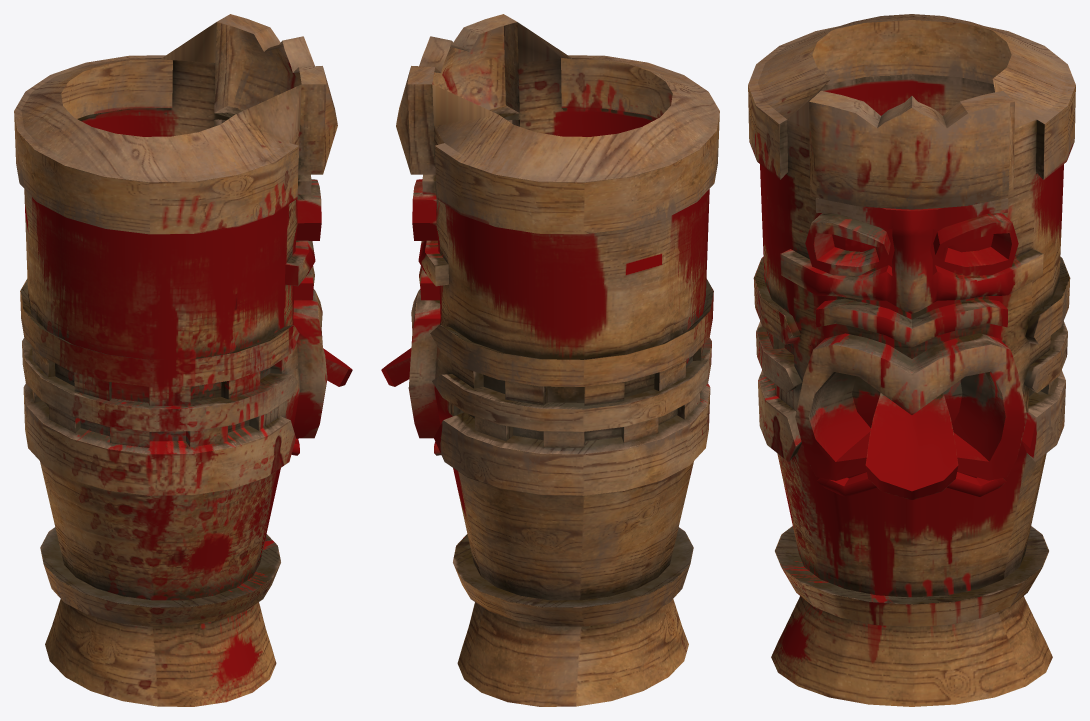
The model's file is ChaosZooToTemL.fbx.
3 renders of one model, left to right at view 1: azimuth 30°, elevation 25°; view 2: azimuth 150°, elevation 25°; view 3: azimuth 270°, elevation 25°, orthographic. The views are drawn at different scales.
Parts seen in each view (by area): view 1: pCylinder1; view 2: pCylinder1; view 3: pCylinder1.
Part boxes in pixels (box(x1,y1,x2,y2)): pCylinder1: box(14, 14, 352, 706); pCylinder1: box(381, 14, 719, 706); pCylinder1: box(748, 14, 1075, 706).
Size of the model in its own units: 4.38 by 7.86 by 3.74.
